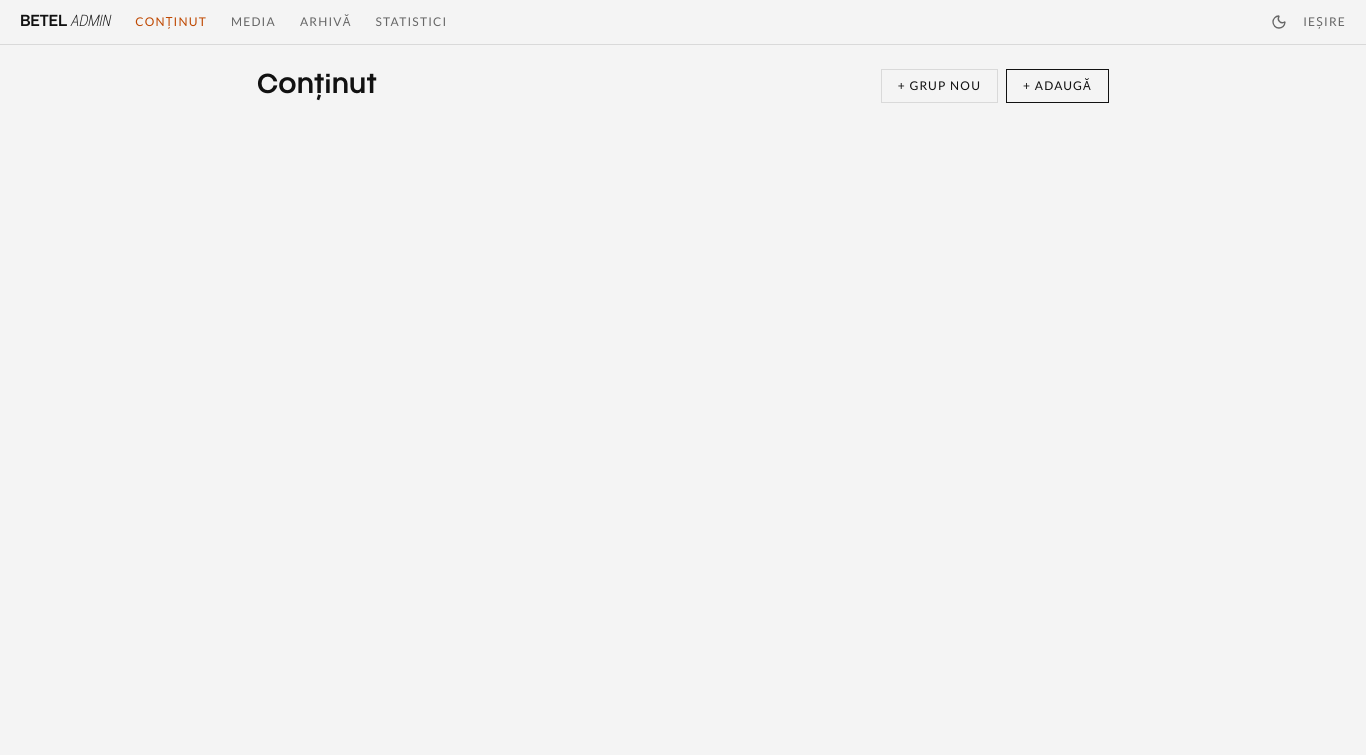
Test: Toast notifications › shows a success toast after creating content
Click the button with test id "create-content-btn": click(1058, 86) x1=1006 y1=69 x2=1109 y2=103
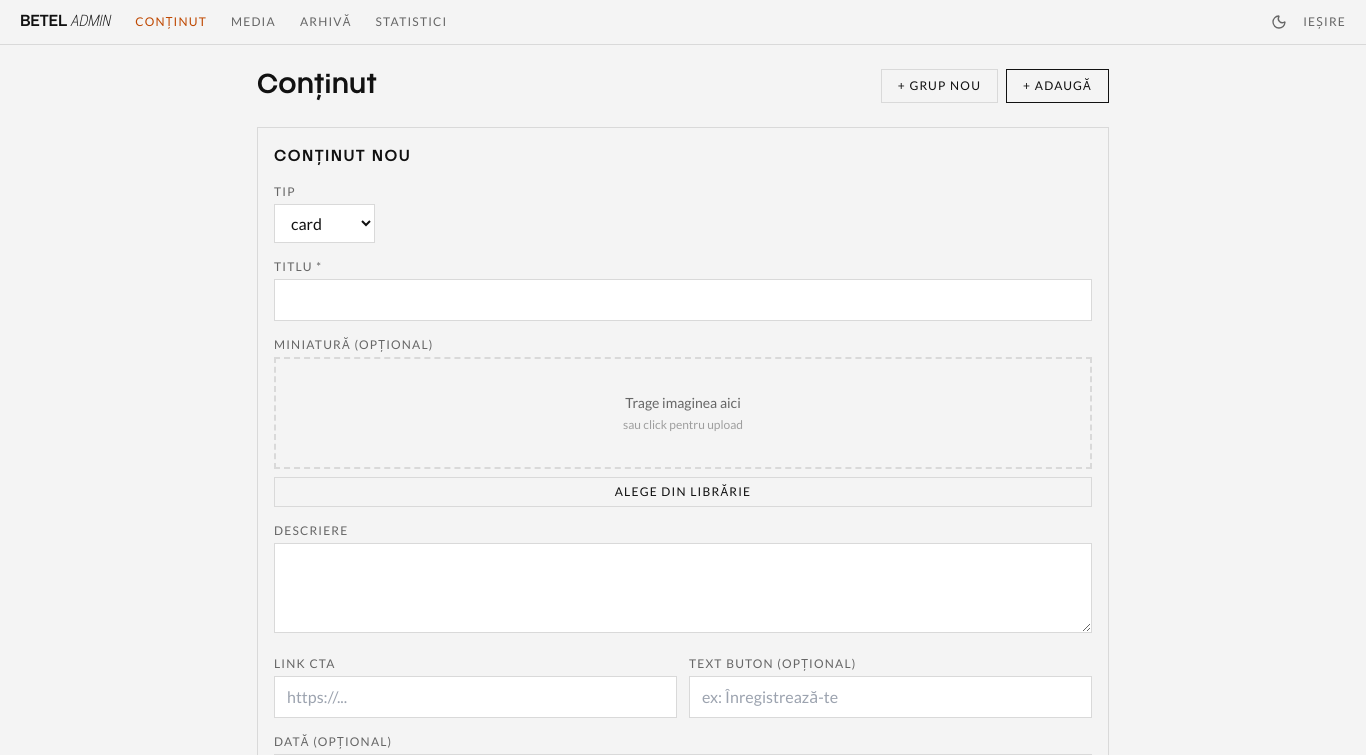
Select "richtext" in the dropdown with test id "create-type-select": (325, 224) x1=274 y1=204 x2=375 y2=243
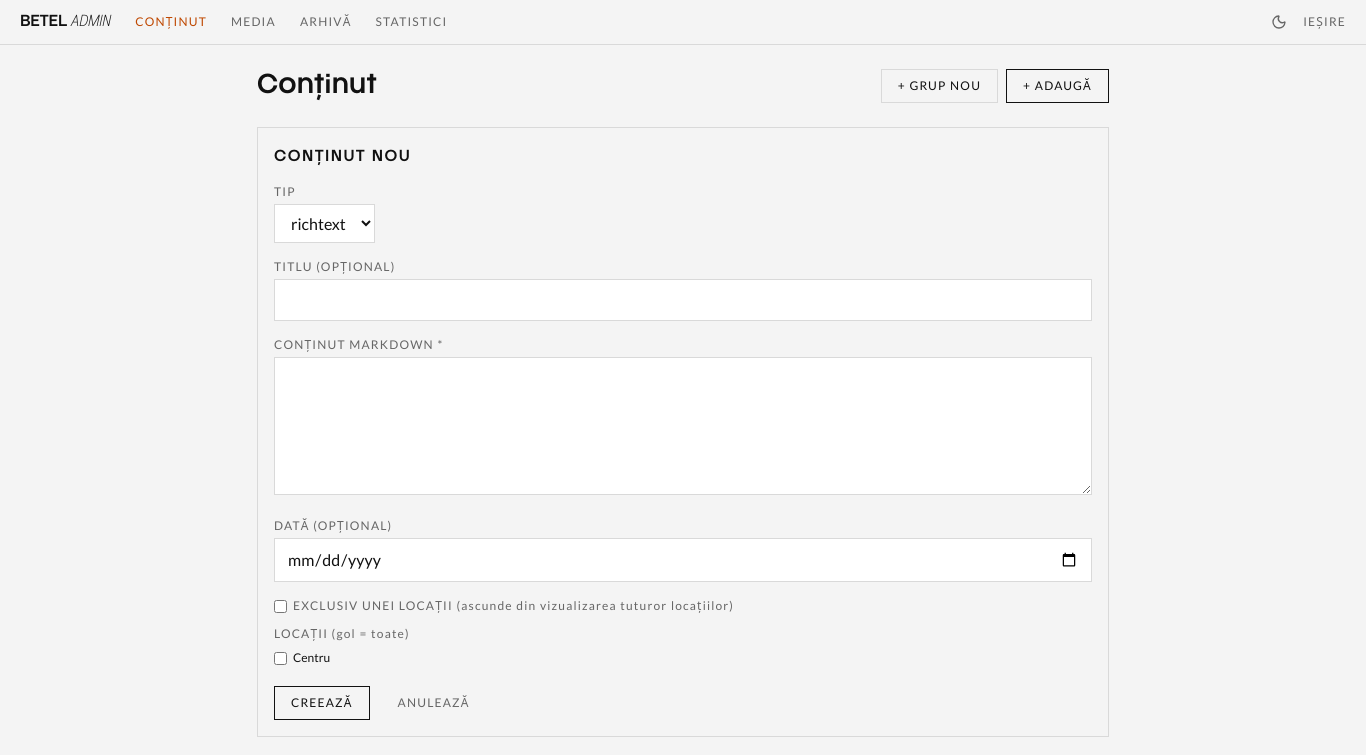
In the text box with test id "create-body-input": (683, 426) x1=274 y1=357 x2=1092 y2=495, type "hello"
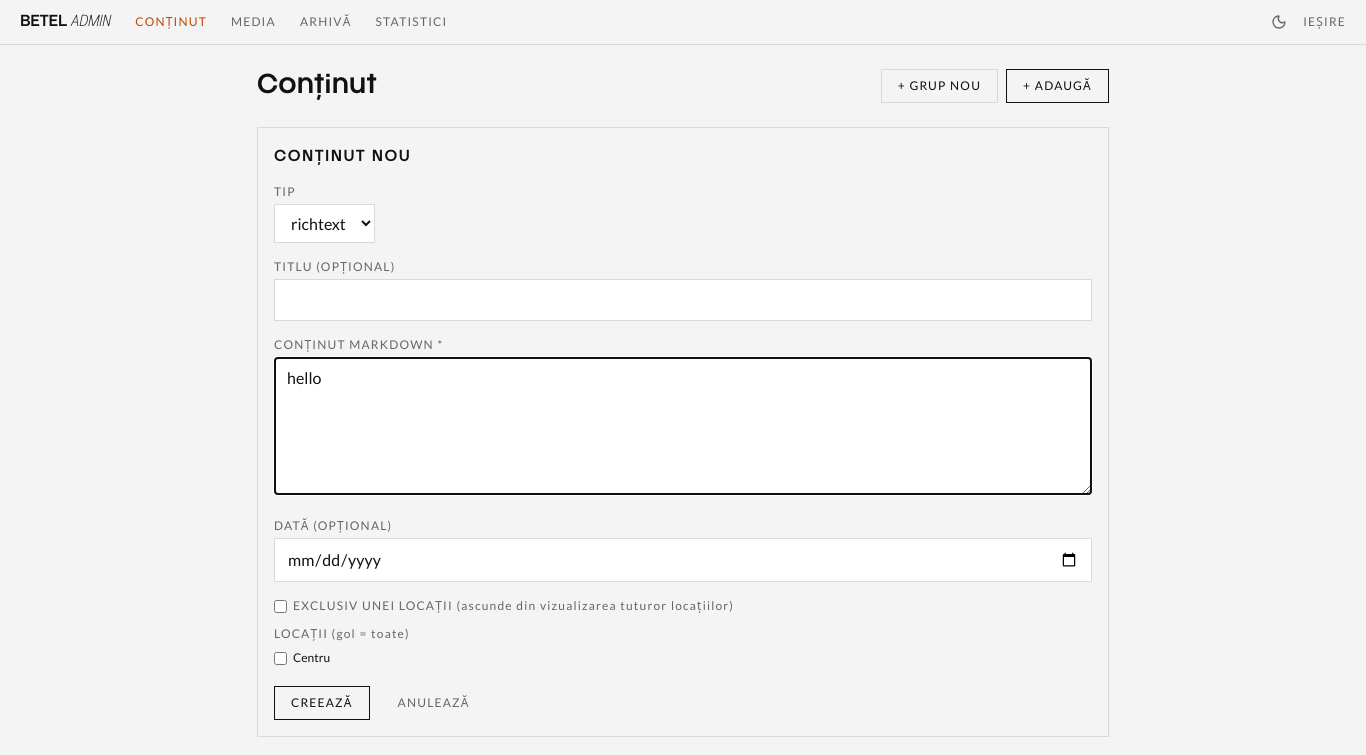
Click the button with test id "create-submit-btn": click(322, 703) x1=274 y1=686 x2=370 y2=720
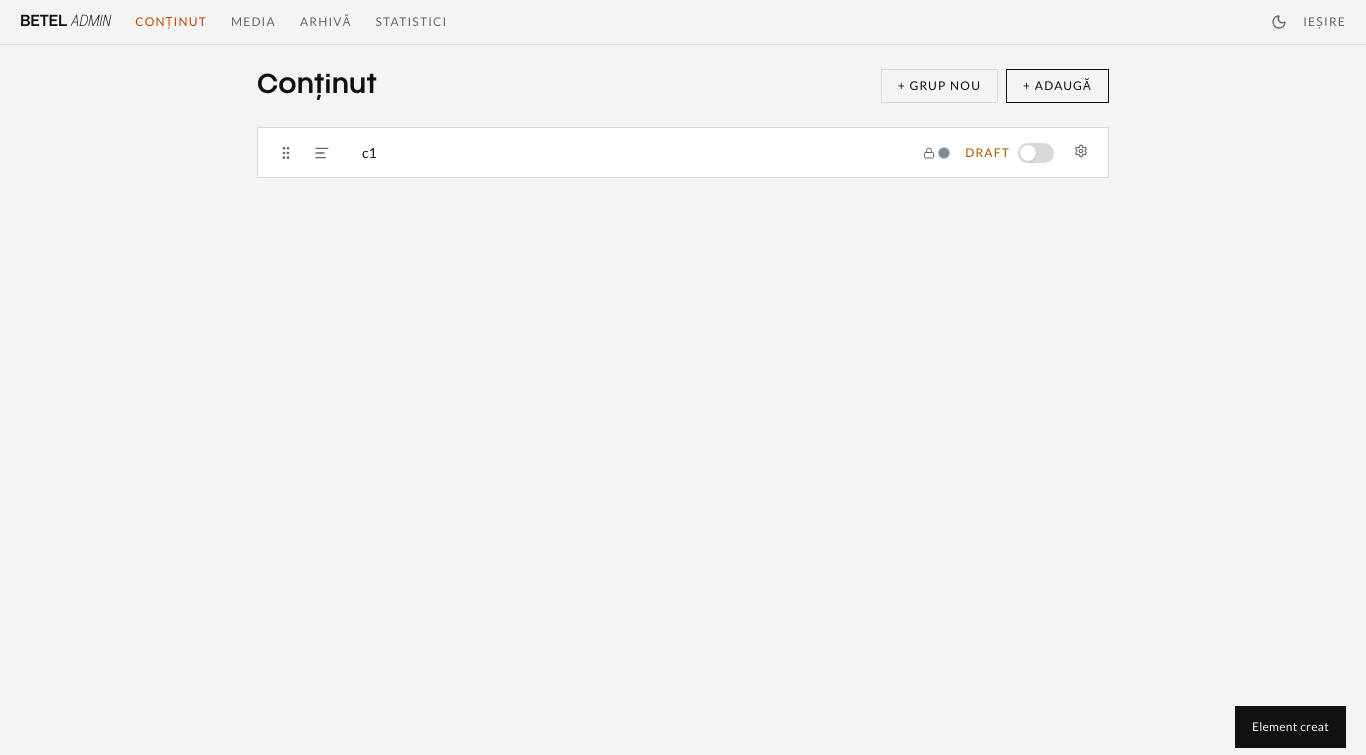
Result: the text "Element creat" is shown at x1=1235 y1=706 x2=1346 y2=748
Result: the text with test id "toast" reads "Element creat" at x1=1252 y1=719 x2=1329 y2=734
